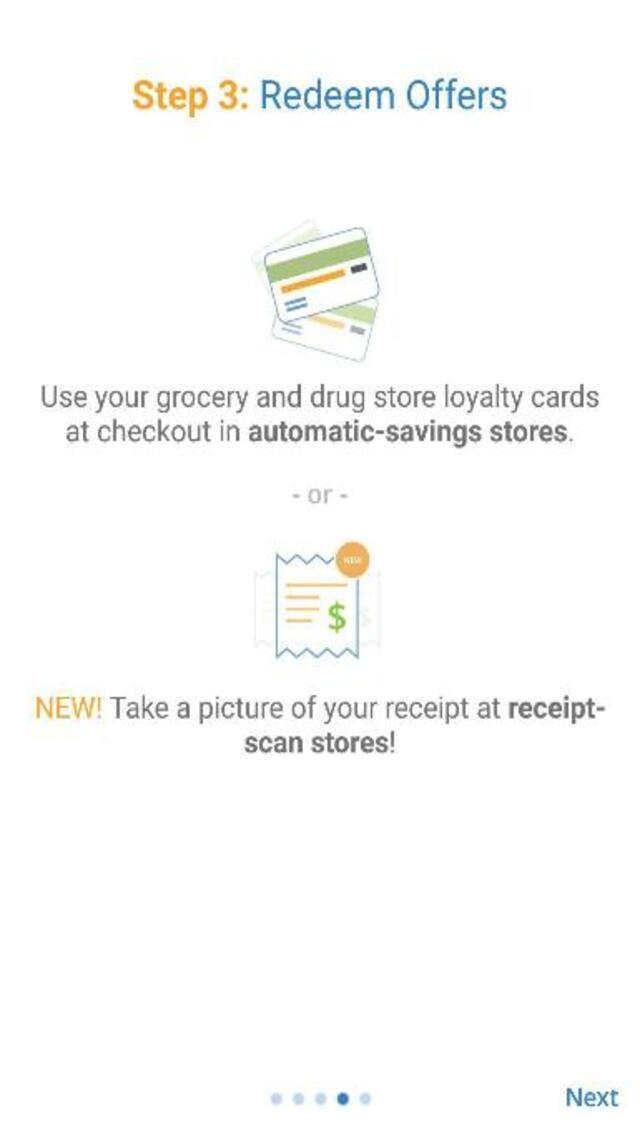Image: (249, 219, 379, 361), (252, 540, 386, 662)
Text: (38, 382, 602, 414), (35, 695, 607, 726), (59, 419, 574, 448), (132, 80, 510, 117), (243, 730, 400, 758), (563, 1084, 621, 1110), (308, 488, 334, 504)
